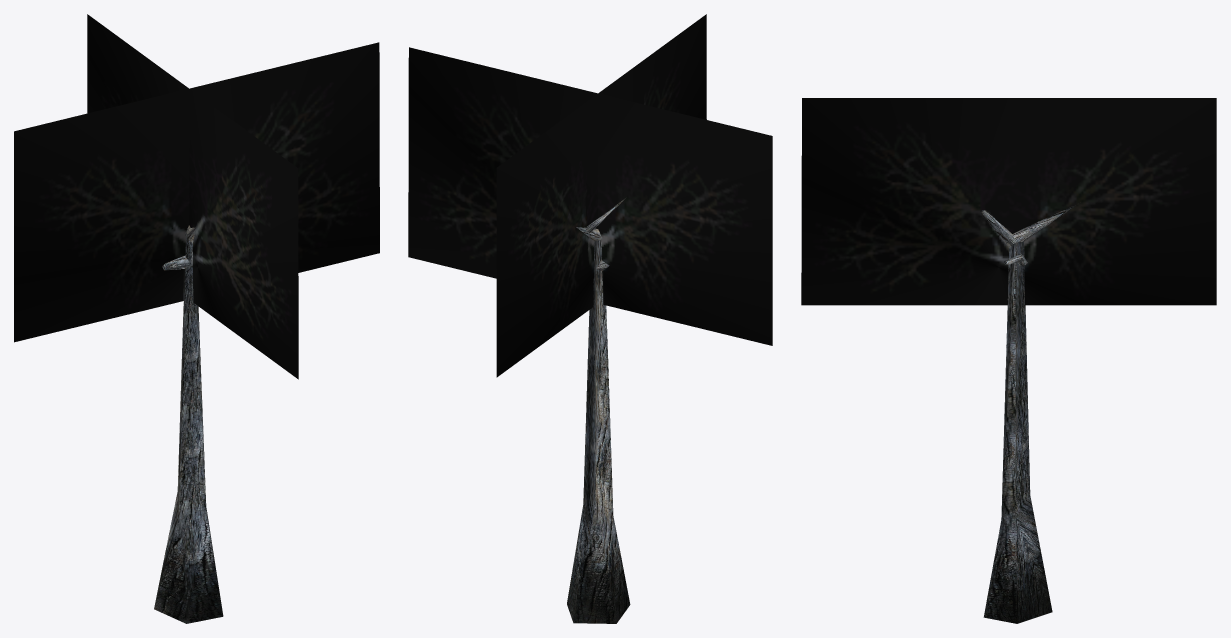
Rendered from decd_scorched_massassi_l3.fbx.
3 views of the same model, side by side, from view 1: azimuth 30°, elevation 25°; view 2: azimuth 150°, elevation 25°; view 3: azimuth 270°, elevation 25° (orthographic).
Visible parts, largest first — view 1: mesh_node; view 2: mesh_node; view 3: mesh_node.
Part boxes in pixels (x1,y1,x2,y2): mesh_node: (14,14,379,623); mesh_node: (408,14,772,623); mesh_node: (801,98,1216,623).
Bounding box in the file's own units: 63.01 × 85.59 × 63.01.
